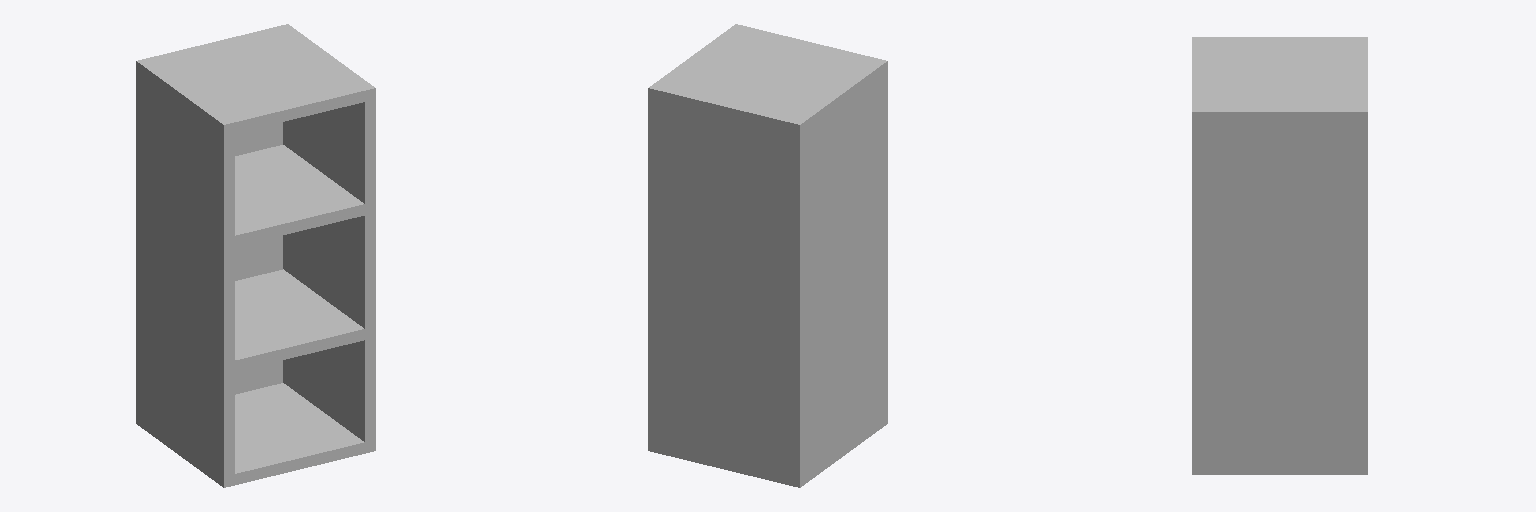
File: Shelf.obj
3 renders of one model, left to right at view 1: azimuth 30°, elevation 25°; view 2: azimuth 150°, elevation 25°; view 3: azimuth 270°, elevation 25°, orthographic.
Visible parts, largest first — view 1: object 1; view 2: object 1; view 3: object 1.
Boxes of the visible parts, x1,y1,x2,y2 form: object 1: [136, 24, 375, 487]; object 1: [648, 24, 887, 487]; object 1: [1192, 37, 1367, 474].
Size of the model in its own units: 1.4 by 3.2 by 1.4.